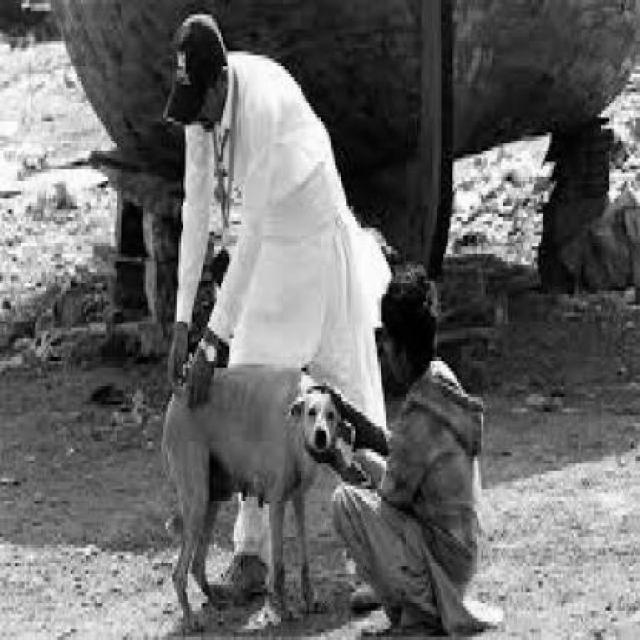Dog: (157, 331, 349, 624)
